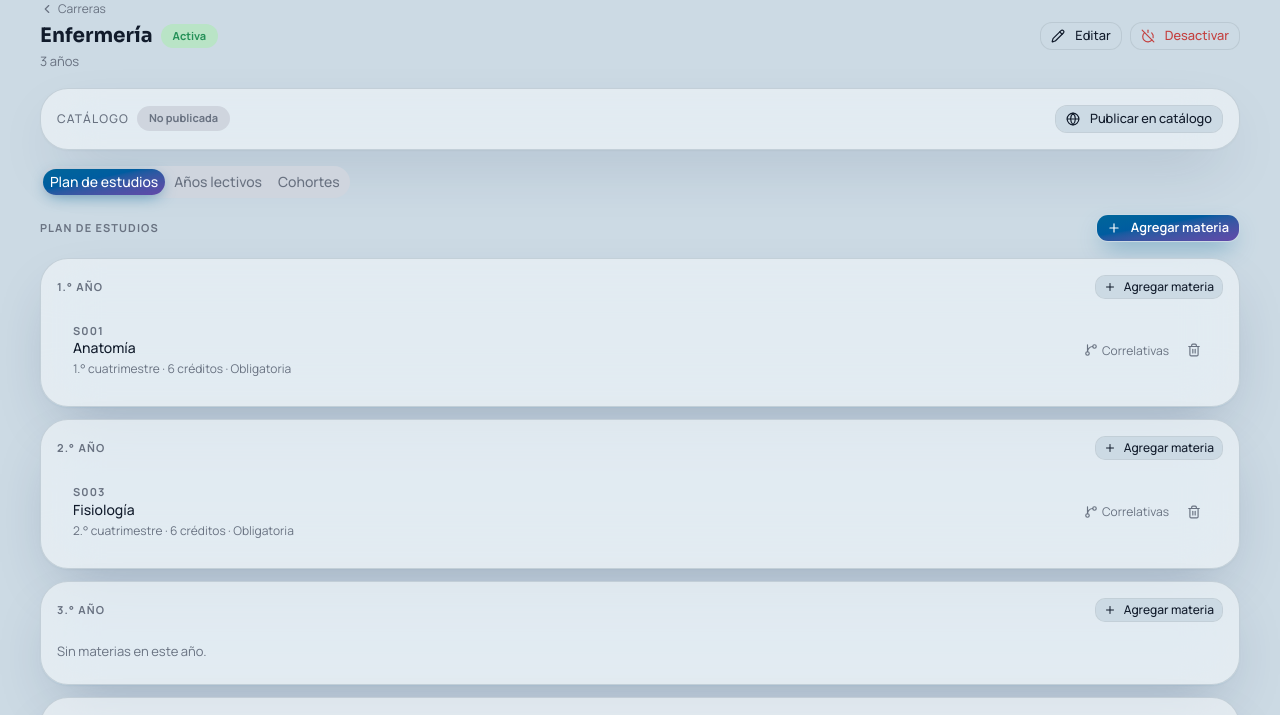
CarreraDetalle — plan de estudios › explains that electives need an elective group assigned to the program
This screenshot has width=1280, height=715.
Expected: the text "Anatomía" is shown, x1=73 y1=338 x2=136 y2=357
Step 1. Click the button "Agregar materia" in the row of "1.° año" → click(1159, 286), box x1=1095 y1=274 x2=1223 y2=298
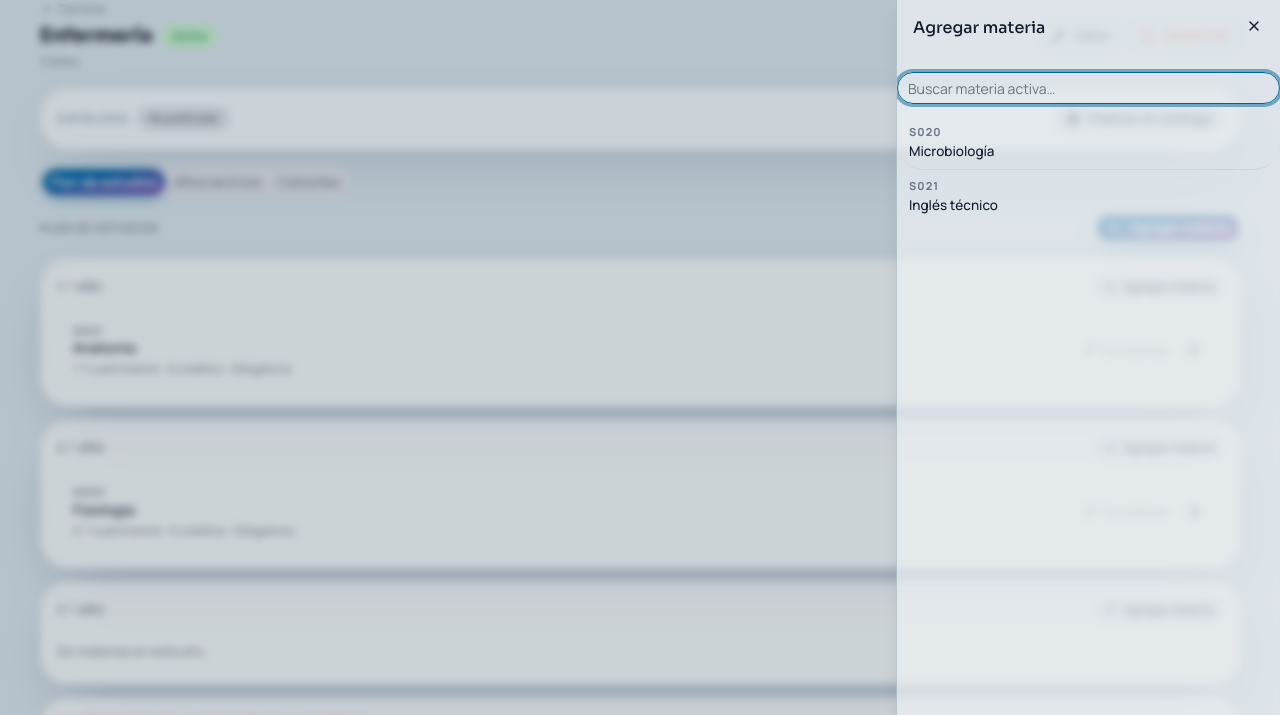
Step 2. Click the button "S020 Microbiología" → click(925, 132), box x1=897 y1=116 x2=1279 y2=170
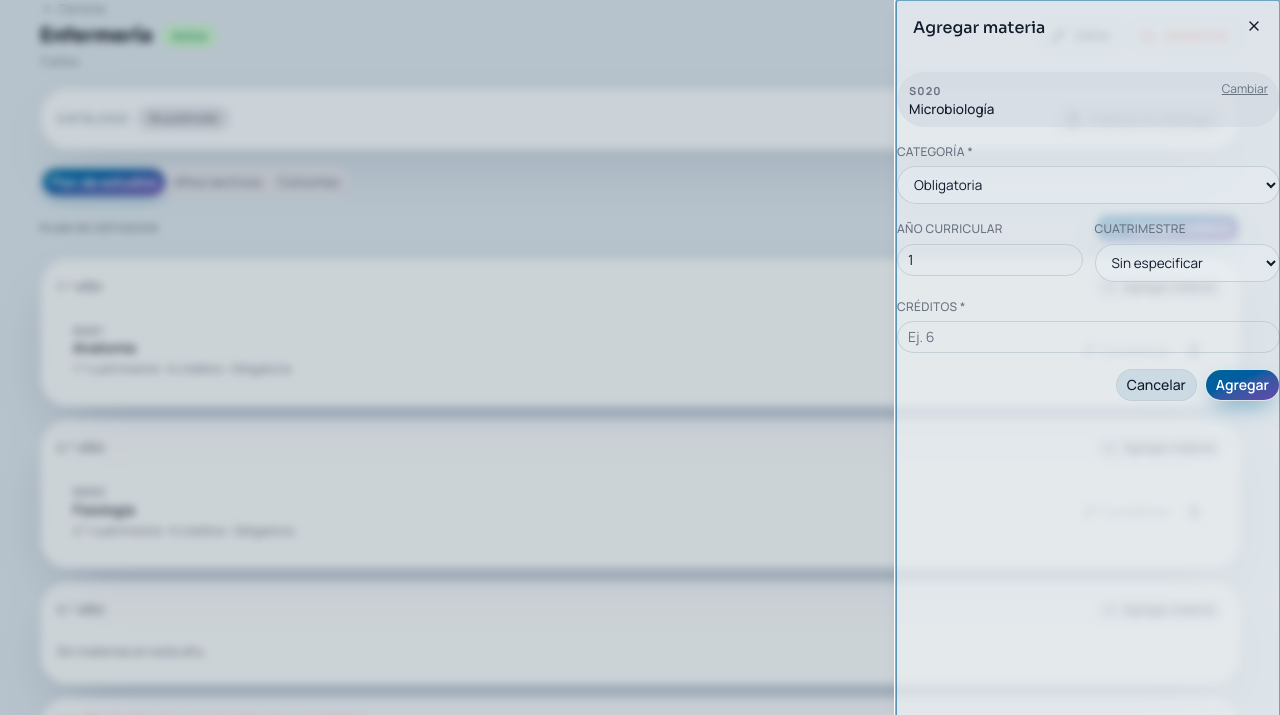
Step 3. Select "Electiva" in the dropdown labelled "Categoría *" → (1088, 185), box x1=897 y1=166 x2=1279 y2=204
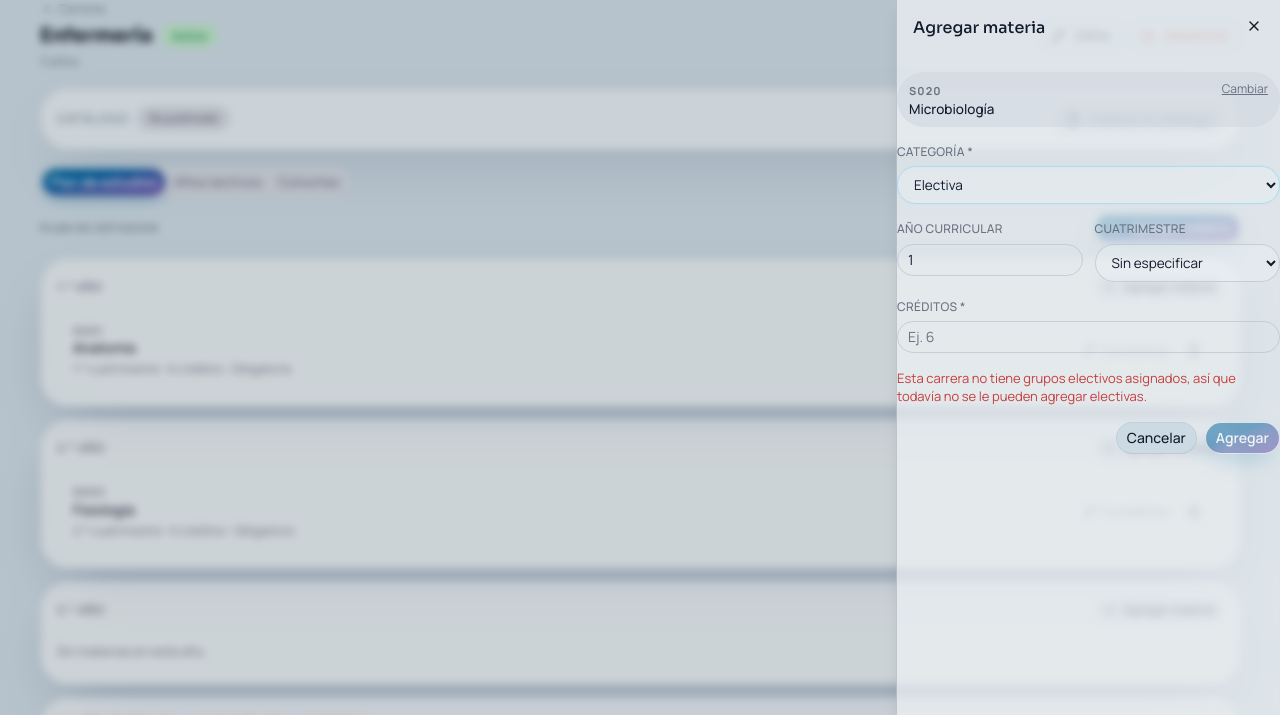
Now the text "no tiene grupos electivos asignados" is shown, box x1=897 y1=369 x2=1236 y2=405
Now the button "Agregar" is disabled, box x1=1205 y1=422 x2=1279 y2=454
